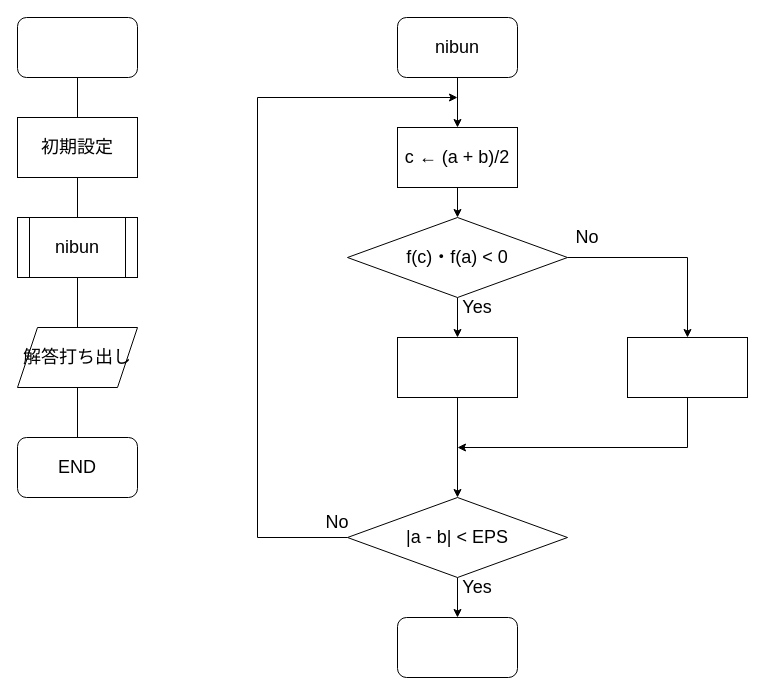
This 765x695 diagram has some shape labels left out. Here are the shapes that lost their labels. From the top down, the centre of each, then its label:
(77,47): START
(457,367): b ← c
(687,367): a ← c
(457,647): return
